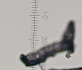microplastic: (18, 20, 76, 68), (47, 66, 81, 70)
